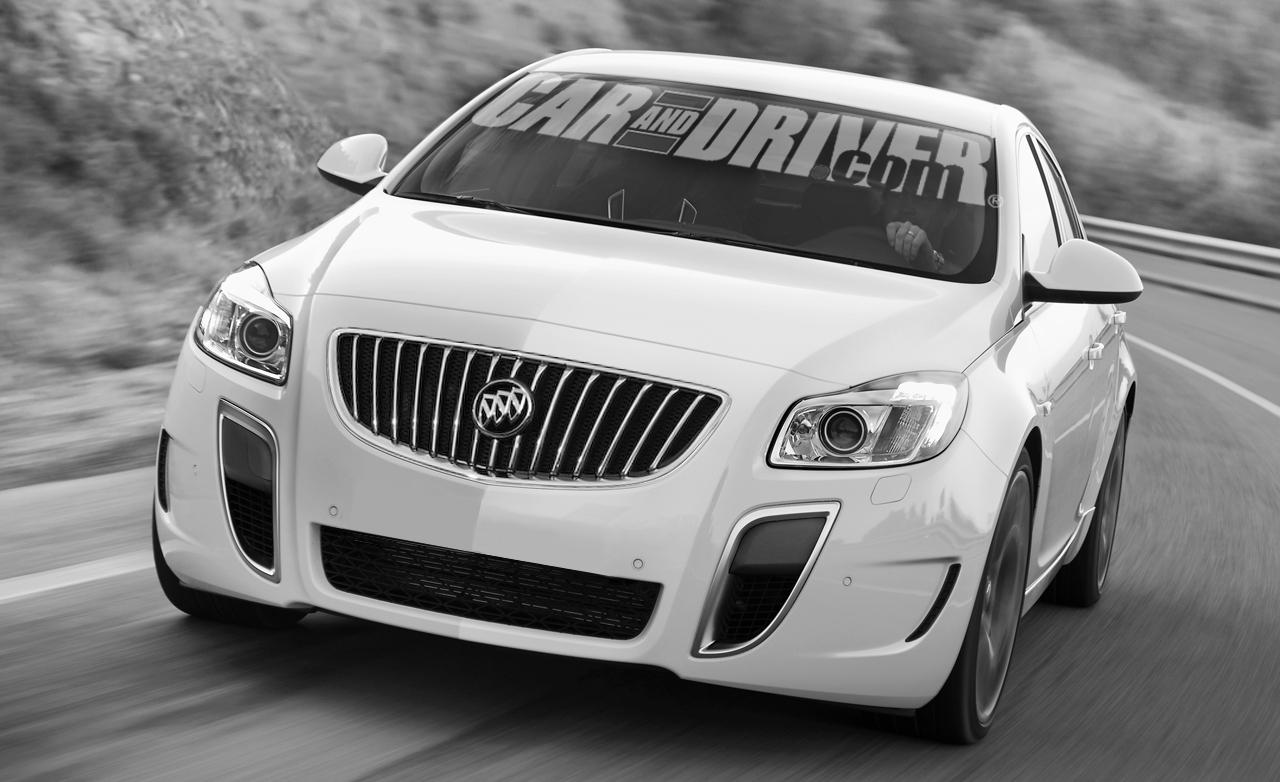car: (152, 46, 1137, 744)
